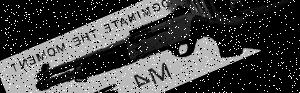knife: (13, 0, 300, 93)
